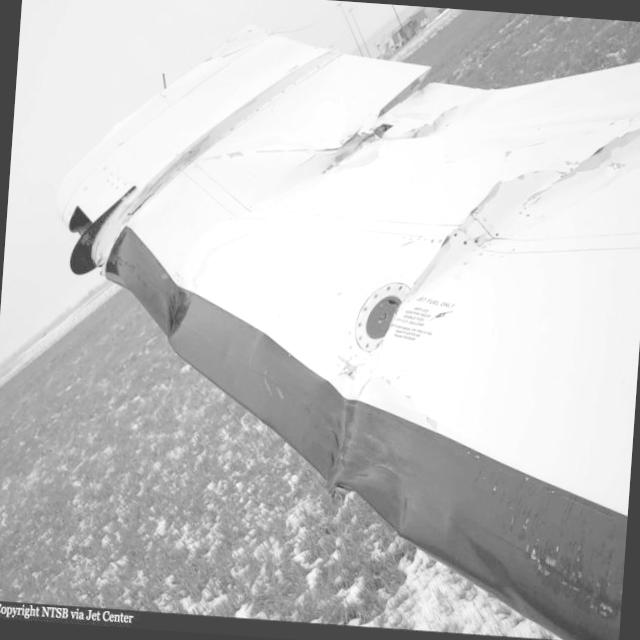crack: (321, 49, 458, 182), (404, 173, 505, 302), (527, 113, 640, 209)
